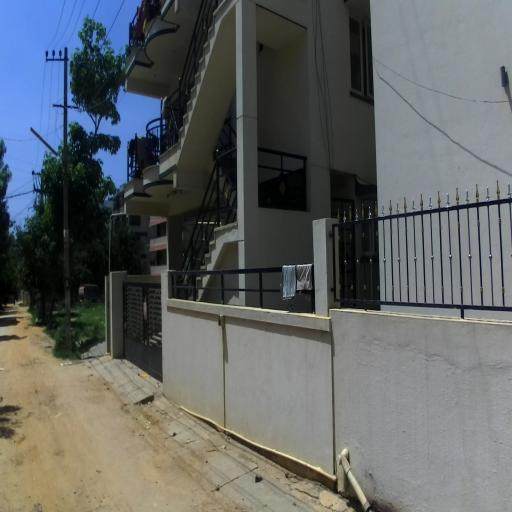street_light_0: (30, 127, 68, 188)
